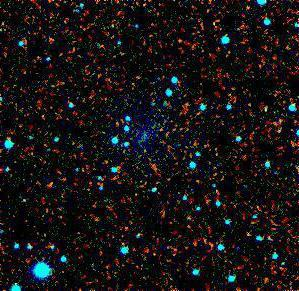star: (233, 223, 263, 253)
